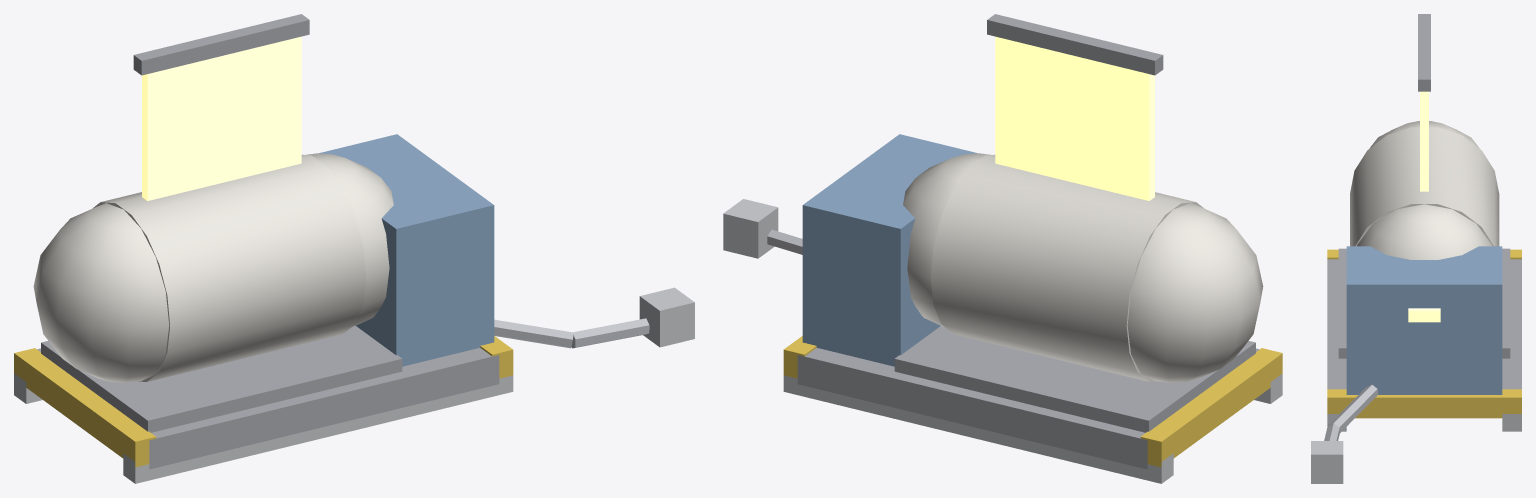
File: place_power_skid.glb
3 views of the same model, side by side, from view 1: azimuth 30°, elevation 25°; view 2: azimuth 150°, elevation 25°; view 3: azimuth 270°, elevation 25° (orthographic). The views are drawn at different scales.
Visible parts, largest first — view 1: core_shell, cabinet, fin, core_domea, skid, core_saddlea, core_saddlef, skid_hz_a, core_domef, runner_s, fin_frame, plug (+2 smaller); view 2: core_shell, cabinet, fin, core_domea, skid, core_saddlea, core_saddlef, skid_hz_a, core_domef, runner_p, fin_frame, plug (+1 smaller); view 3: cabinet, core_shell, core_domef, skid_hz_f, skid, plug, core_saddlef, fin_frame, cable, core_saddlea, fin, core_domea (+3 smaller).
Boxes of the visible parts, x1,y1,x2,y2 form: core_shell: [93, 154, 365, 381]; cabinet: [319, 134, 494, 366]; fin: [142, 36, 301, 200]; core_domea: [33, 203, 169, 382]; skid: [37, 348, 499, 469]; core_saddlea: [41, 341, 284, 432]; core_saddlef: [228, 326, 402, 399]; skid_hz_a: [14, 348, 156, 467]; core_domef: [306, 153, 393, 326]; runner_s: [123, 375, 513, 483]; fin_frame: [133, 14, 309, 75]; plug: [639, 287, 694, 347]; core_shell: [930, 154, 1203, 381]; cabinet: [802, 134, 977, 366]; fin: [995, 36, 1154, 200]; core_domea: [1127, 203, 1263, 382]; skid: [797, 348, 1259, 469]; core_saddlea: [1012, 341, 1255, 432]; core_saddlef: [894, 325, 1068, 399]; skid_hz_a: [1140, 348, 1282, 467]; core_domef: [903, 153, 990, 326]; runner_p: [783, 375, 1173, 483]; fin_frame: [987, 14, 1163, 75]; plug: [723, 199, 778, 258]; cabinet: [1346, 246, 1502, 394]; core_shell: [1350, 127, 1499, 246]; core_domef: [1357, 204, 1492, 259]; skid_hz_f: [1327, 389, 1521, 418]; skid: [1327, 259, 1521, 389]; plug: [1311, 441, 1343, 483]; core_saddlef: [1338, 302, 1510, 358]; fin_frame: [1418, 14, 1430, 91]; cable: [1324, 384, 1378, 440]; core_saddlea: [1338, 248, 1510, 301]; fin: [1420, 91, 1428, 191]; core_domea: [1370, 121, 1479, 148].
Bounding box in the file's own units: 8.25 × 5 × 3.25.
